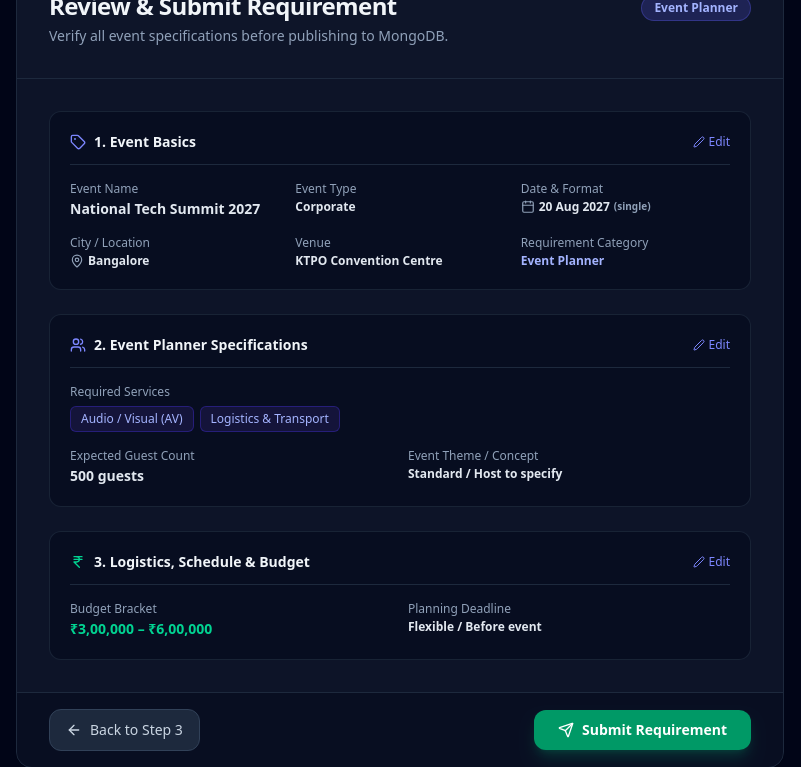
ReviewStep submission handling › displays server validation error message and field path details on HTTP 400 failure
(page scrolled)
Click the button "Submit Requirement". click: (642, 730)
box: 534,710 -> 751,750
(page scrolled)
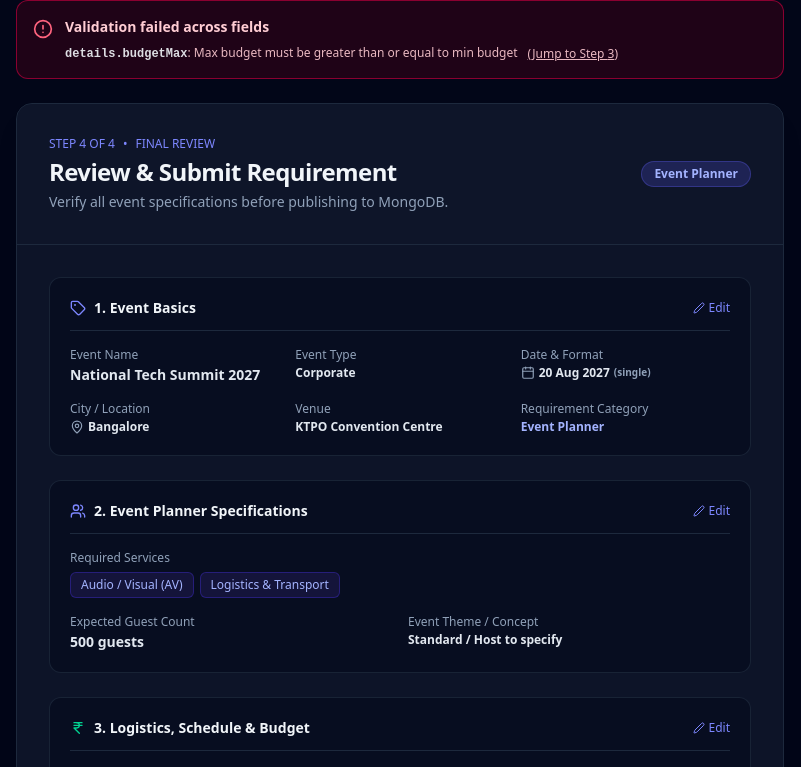
Result: the text "Validation failed across fields" is shown at 65,17 -> 269,36
Result: the text "Max budget must be greater than or equal to min budget" is shown at 194,44 -> 518,61
